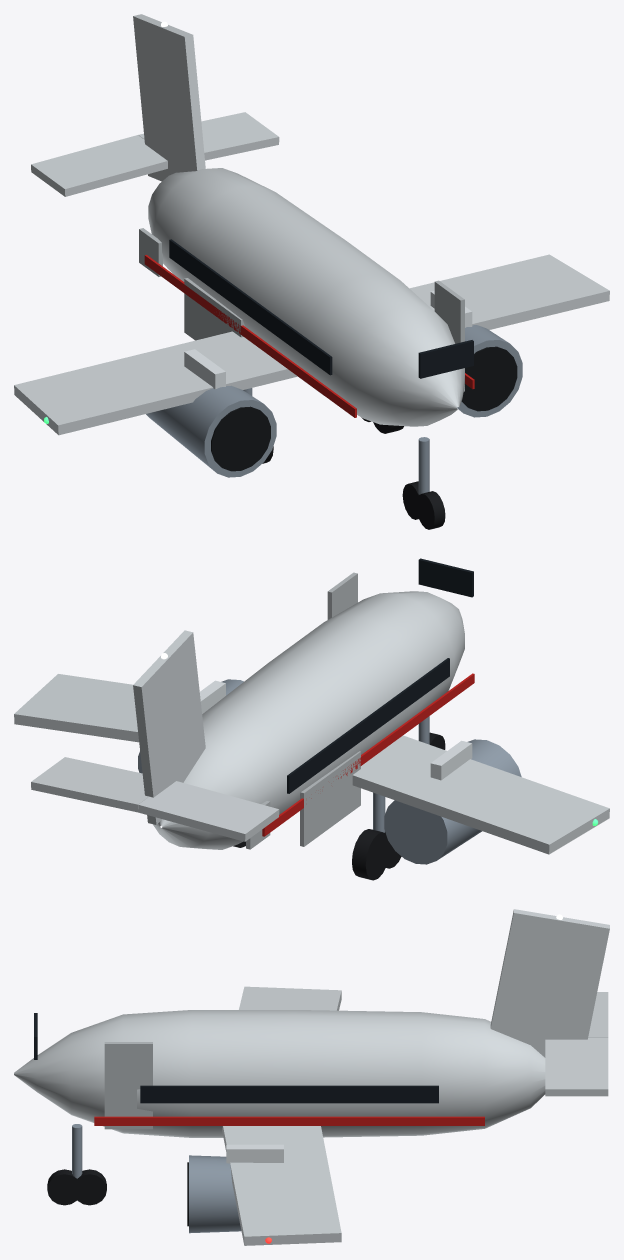
The model's file is equipment--regionalJet.glb.
3 renders of one model, top to bottom at view 1: azimuth 30°, elevation 25°; view 2: azimuth 150°, elevation 25°; view 3: azimuth 270°, elevation 25°, orthographic. The views are drawn at different scales.
Parts seen in each view (by area): view 1: fuselage, tailfin, wingR, engineR, wingL, engineL, noseGear, cargoDoor, doorFwd, servicePanel; view 2: fuselage, tailfin, wingR, wingL, engineR, cargoDoor, mainGearR, doorFwd, engineL, noseGear; view 3: fuselage, tailfin, wingL, engineL, doorFwd, noseGear, wingR.
Boxes of the visible parts, x1,y1,x2,y2 form: fuselage: [144, 168, 474, 426]; tailfin: [31, 14, 279, 196]; wingR: [14, 331, 297, 435]; engineR: [146, 349, 276, 477]; wingL: [409, 254, 609, 329]; engineL: [430, 290, 522, 417]; noseGear: [402, 437, 445, 529]; cargoDoor: [184, 278, 244, 340]; doorFwd: [434, 280, 464, 391]; servicePanel: [139, 228, 162, 276]; fuselage: [153, 558, 474, 849]; tailfin: [31, 630, 279, 841]; wingR: [352, 735, 609, 854]; wingL: [14, 674, 138, 742]; engineR: [384, 739, 521, 864]; cargoDoor: [300, 751, 360, 846]; mainGearR: [352, 792, 401, 880]; doorFwd: [327, 572, 357, 619]; engineL: [138, 679, 243, 773]; noseGear: [418, 716, 445, 749]; fuselage: [14, 1010, 545, 1137]; tailfin: [490, 909, 609, 1096]; wingL: [222, 1126, 341, 1245]; engineL: [187, 1144, 283, 1233]; doorFwd: [104, 1042, 152, 1129]; noseGear: [47, 1124, 106, 1205]; wingR: [239, 986, 341, 1010].
Bounding box in the file's own units: 5.17 × 2.81 × 5.19.
